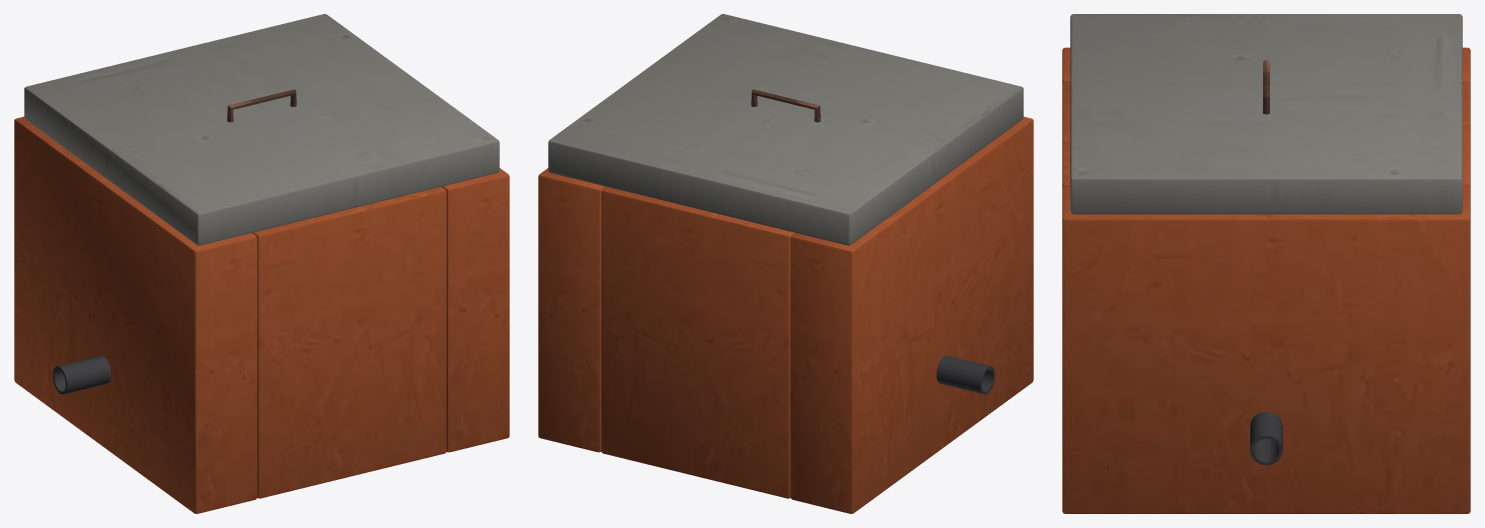
The model's file is ELE-CXA-005_lod1.glb.
3 renders of one model, left to right at view 1: azimuth 30°, elevation 25°; view 2: azimuth 150°, elevation 25°; view 3: azimuth 270°, elevation 25°, orthographic. The views are drawn at different scales.
Visible parts, largest first — view 1: ELE-CXA-005_tampa, ELE-CXA-005_px-1, ELE-CXA-005_py-1, ELE-CXA-005_px1, ELE-CXA-005_eletroduto-1, ELE-CXA-005_alca; view 2: ELE-CXA-005_tampa, ELE-CXA-005_px-1, ELE-CXA-005_py1, ELE-CXA-005_px1, ELE-CXA-005_eletroduto-1, ELE-CXA-005_alca; view 3: ELE-CXA-005_px1, ELE-CXA-005_tampa, ELE-CXA-005_eletroduto1, ELE-CXA-005_py1, ELE-CXA-005_py-1, ELE-CXA-005_px-1.
Part boxes in pixels (<box>): ELE-CXA-005_tampa: <box>24,14,499,245</box>; ELE-CXA-005_px-1: <box>14,116,257,513</box>; ELE-CXA-005_py-1: <box>252,186,446,498</box>; ELE-CXA-005_px1: <box>442,168,509,452</box>; ELE-CXA-005_eletroduto-1: <box>52,355,111,394</box>; ELE-CXA-005_alca: <box>227,89,296,122</box>; ELE-CXA-005_tampa: <box>548,14,1023,245</box>; ELE-CXA-005_px-1: <box>790,116,1033,513</box>; ELE-CXA-005_py1: <box>601,186,795,498</box>; ELE-CXA-005_px1: <box>538,168,605,452</box>; ELE-CXA-005_eletroduto-1: <box>936,355,995,394</box>; ELE-CXA-005_alca: <box>751,89,820,122</box>; ELE-CXA-005_px1: <box>1062,185,1470,513</box>; ELE-CXA-005_tampa: <box>1070,14,1462,214</box>; ELE-CXA-005_eletroduto1: <box>1250,411,1282,465</box>; ELE-CXA-005_py1: <box>1462,82,1470,187</box>; ELE-CXA-005_py-1: <box>1062,82,1070,187</box>; ELE-CXA-005_px-1: <box>1062,47,1470,84</box>.
Bounding box in the file's own units: 0.64 × 0.4735 × 0.5.
5 materials, 4 textured.
